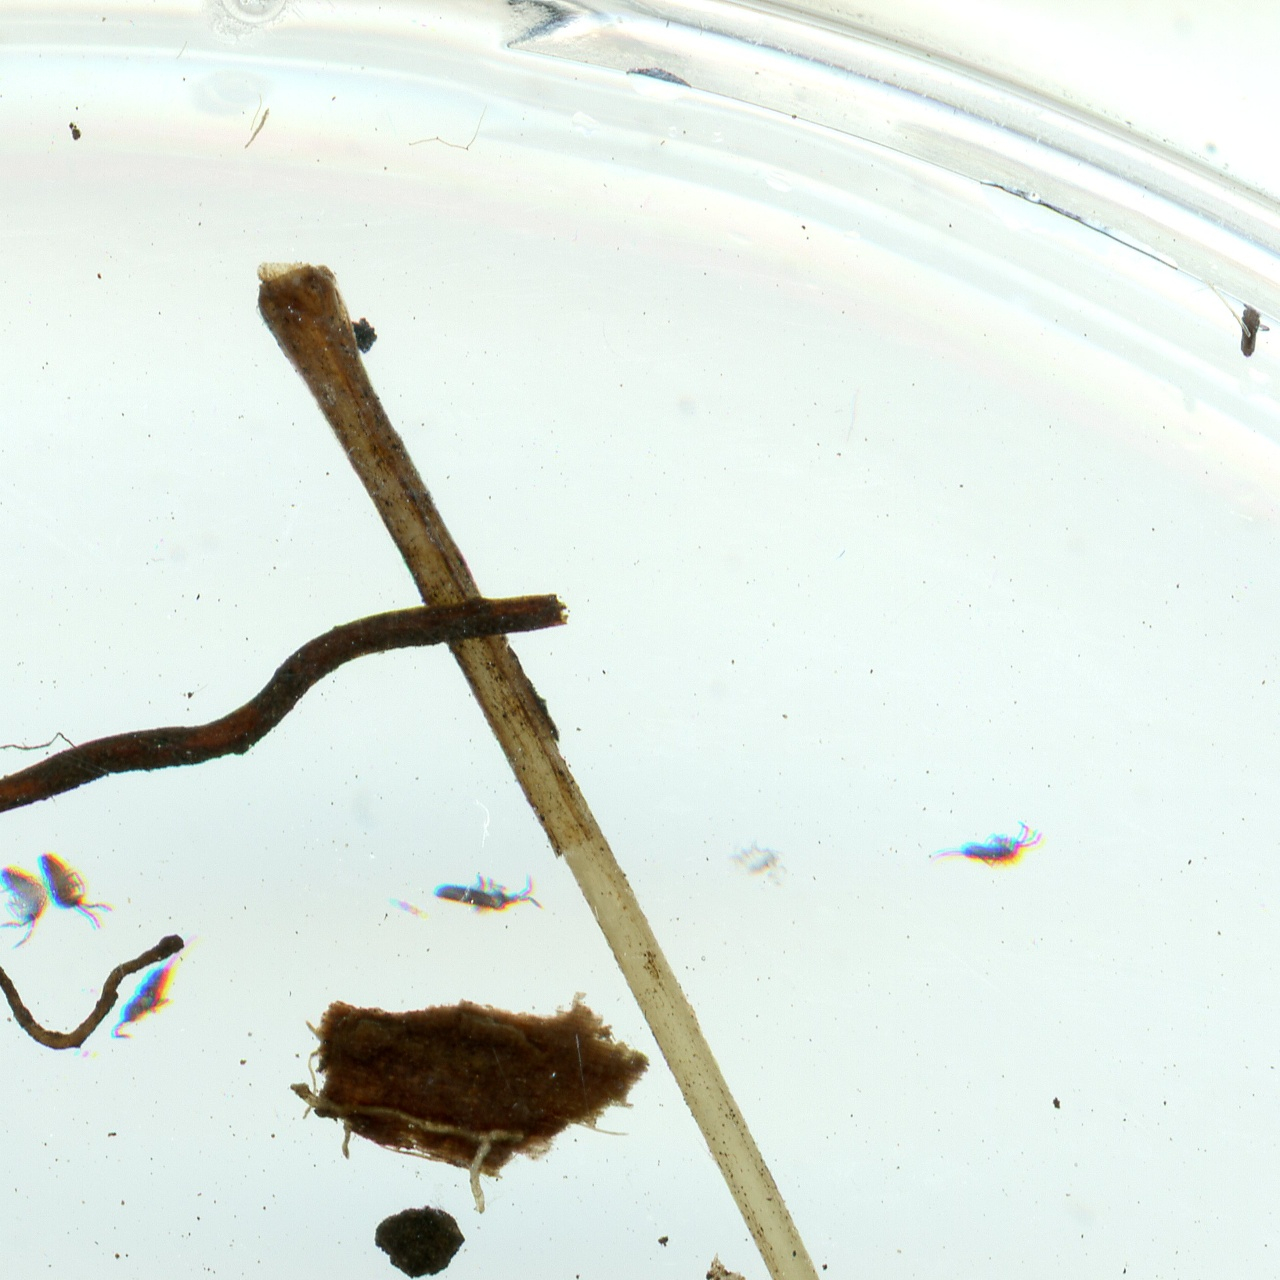arthropod: (99, 909, 222, 1058), (32, 831, 122, 945), (924, 815, 1051, 876), (0, 851, 66, 957), (429, 868, 547, 918), (1235, 302, 1276, 360)
